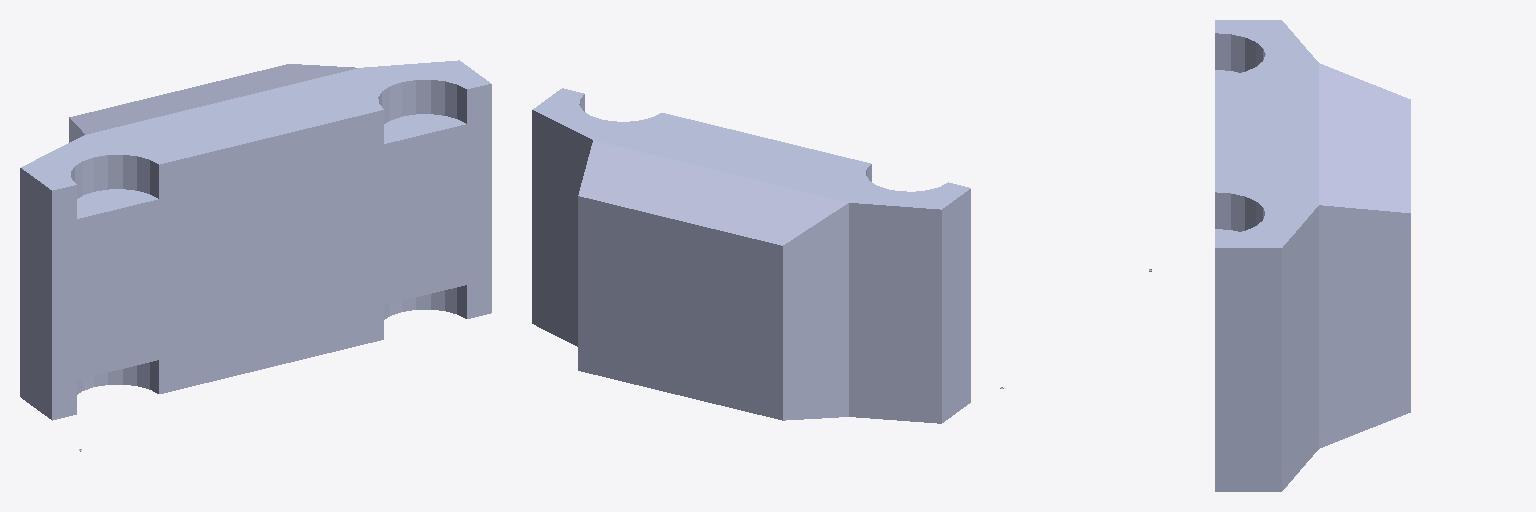
URDF robot description (Car_Bot):
<?xml version="1.0" encoding="utf-8"?>
<!-- This URDF was automatically created by SolidWorks to URDF Exporter! Originally created by [author] ([email redacted]) 
     Commit Version: 1.6.0-4-g7f85cfe  Build Version: 1.6.7995.38578
     For more information, please see http://wiki.ros.org/sw_urdf_exporter -->
     <!-- xyz="-6.9389E-18 0.012359 1.3957E-18" -->
<robot
  name="Car_Bot">
  <link
    name="CAR_BODY">
    <inertial>
      <origin  
        xyz="-6.9389E-18 0.012359 1.3957E-18"
        rpy="0 0 0" />
      <mass
        value="0.06661" />
      <inertia
        ixx="1.2286E-05"
        ixy="-2.3375E-21"
        ixz="4.7984E-22"
        iyy="3.2578E-05"
        iyz="-9.369E-22"
        izz="2.8742E-05" />
    </inertial>
    <visual>
      <origin
        xyz="0 0 0"
        rpy="0 0 0" />
      <geometry>
        <mesh filename="meshes/CAR_BODY.stl"/>
      </geometry>
      <material
        name="">
        <color
          rgba="0.79216 0.81961 0.93333 1" />
      </material>
    </visual>
    <collision>
      <origin
        xyz="0 0 0"
        rpy="0 0 0" />
      <geometry>
        <mesh filename="meshes/CAR_BODY.stl"/>
      </geometry>
    </collision>
  </link>
  <link
    name="wheel1">
    <inertial>
      <origin
        xyz="0.028 8.0569E-19 -0.018969"
        rpy="0 0 0" />
      <mass
        value="0.0002595" />
      <inertia
        ixx="4.2293E-09"
        ixy="-2.0357E-24"
        ixz="2.073E-25"
        iyy="4.2293E-09"
        iyz="-6.1302E-25"
        izz="8.0995E-09" />
    </inertial>
    <visual>
      <origin
        xyz="0 0 0"
        rpy="0 0 0" />
      <geometry>
        <mesh filename="meshes/wheel1.STL"/>
      </geometry>
      <material
        name="">
        <color
          rgba="0.79216 0.81961 0.93333 1" />
      </material>
    </visual>
    <collision>
      <origin
        xyz="0 0 0"
        rpy="0 0 0" />
      <geometry>
        <mesh filename="meshes/wheel1.STL"/>
      </geometry>
    </collision>
  </link>
  <joint
    name="joint1"
    type="revolute">
    <origin
      xyz="0 0 0"
      rpy="0 0 0" />
    <parent
      link="CAR_BODY" />
    <child
      link="wheel1" />
    <axis
      xyz="0 0 -1" />
    <limit
      lower="-1.79769e+308"
      upper="1.79769e+308"/>
  </joint>
  <link
    name="wheel2">
    <inertial>
      <origin
        xyz="-0.028 8.1367E-19 -0.018969"
        rpy="0 0 0" />
      <mass
        value="0.0002595" />
      <inertia
        ixx="4.2293E-09"
        ixy="-7.5057E-25"
        ixz="4.9881E-25"
        iyy="4.2293E-09"
        iyz="8.4438E-25"
        izz="8.0995E-09" />
    </inertial>
    <visual>
      <origin
        xyz="0 0 0"
        rpy="0 0 0" />
      <geometry>
        <mesh filename="meshes/wheel2.STL"/>
      </geometry>
      <material
        name="">
        <color
          rgba="0.79216 0.81961 0.93333 1" />
      </material>
    </visual>
    <collision>
      <origin
        xyz="0 0 0"
        rpy="0 0 0" />
      <geometry>
        <mesh filename="meshes/wheel2.STL"/>
      </geometry>
    </collision>
  </link>
  <joint
    name="joint2"
    type="revolute">
    <origin
      xyz="0 0 0"
      rpy="0 0 0" />
    <parent
      link="CAR_BODY" />
    <child
      link="wheel2" />
    <axis
      xyz="0 0 -1" />
    <limit
      lower="-1.79769e+308"
      upper="1.79769e+308"/>
  </joint>
  <link
    name="wheel3">
    <inertial>
      <origin
        xyz="-0.028 -3.6481E-18 0.018969"
        rpy="0 0 0" />
      <mass
        value="0.0002595" />
      <inertia
        ixx="4.2293E-09"
        ixy="-1.1469E-24"
        ixz="1.5806E-25"
        iyy="4.2293E-09"
        iyz="-7.7254E-25"
        izz="8.0995E-09" />
    </inertial>
    <visual>
      <origin
        xyz="0 0 0"
        rpy="0 0 0" />
      <geometry>
        <mesh filename="meshes/wheel3.STL"/>
      </geometry>
      <material
        name="">
        <color
          rgba="0.79216 0.81961 0.93333 1" />
      </material>
    </visual>
    <collision>
      <origin
        xyz="0 0 0"
        rpy="0 0 0" />
      <geometry>
        <mesh filename="meshes/wheel3.STL"/>
      </geometry>
    </collision>
  </link>
  <joint
    name="joint3"
    type="revolute">
    <origin
      xyz="0 0 0"
      rpy="0 0 0" />
    <parent
      link="CAR_BODY" />
    <child
      link="wheel3" />
    <axis
      xyz="0 0 1" />
    <limit
      lower="-1.79769e+308"
      upper="1.79769e+308"/>
  </joint>
  <link
    name="wheel4">
    <inertial>
      <origin
        xyz="0.028 -2.7406E-18 0.018969"
        rpy="0 0 0" />
      <mass
        value="0.0002595" />
      <inertia
        ixx="4.2293E-09"
        ixy="-2.4119E-24"
        ixz="2.3969E-26"
        iyy="4.2293E-09"
        iyz="4.0848E-25"
        izz="8.0995E-09" />
    </inertial>
    <visual>
      <origin
        xyz="0 0 0"
        rpy="0 0 0" />
      <geometry>
        <mesh filename="meshes/wheel4.STL"/>
      </geometry>
      <material
        name="">
        <color
          rgba="0.79216 0.81961 0.93333 1" />
      </material>
    </visual>
    <collision>
      <origin
        xyz="0 0 0"
        rpy="0 0 0" />
      <geometry>
        <mesh filename="meshes/wheel4.STL"/>
      </geometry>
    </collision>
  </link>
  <joint
    name="joint4"
    type="revolute">
    <origin
      xyz="0 0 0"
      rpy="0 0 0" />
    <parent
      link="CAR_BODY" />
    <child
      link="wheel4" />
    <axis
      xyz="0 0 1" />
    <limit
      lower="-1.79769e+308"
      upper="1.79769e+308"/>
  </joint>
</robot>

--- What the picture shows (computed from the rendered views, not written in the file) ---
Views: 3 orthographic renders of the robot side by side, from view 1: azimuth 30°, elevation 25°; view 2: azimuth 150°, elevation 25°; view 3: azimuth 270°, elevation 25°.
Model Car_Bot with 5 links and 4 joints (4 revolute), rooted at CAR_BODY, posed every joint at zero.
Links seen in each view (by area): view 1: CAR_BODY; view 2: CAR_BODY; view 3: CAR_BODY.
Link boxes in pixels (<box>): CAR_BODY: <box>20,60,491,420</box>; CAR_BODY: <box>532,88,970,423</box>; CAR_BODY: <box>1215,20,1410,491</box>.
Size in the robot's own frame: 40.34 by 19.55 by 20.64 metres.
5 mesh visuals loaded from 5 distinct referenced files (5 binary STL).
